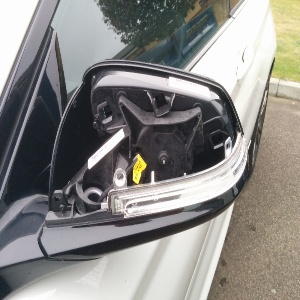side_mirror: (48, 57, 248, 253)
